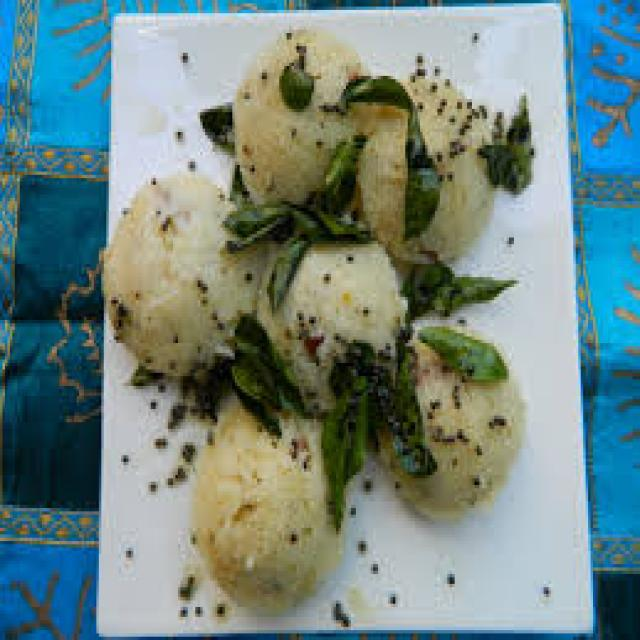IDLI: (97, 164, 262, 386), (189, 393, 346, 613), (232, 24, 385, 220), (359, 77, 513, 257), (381, 324, 525, 510), (256, 225, 408, 399)
